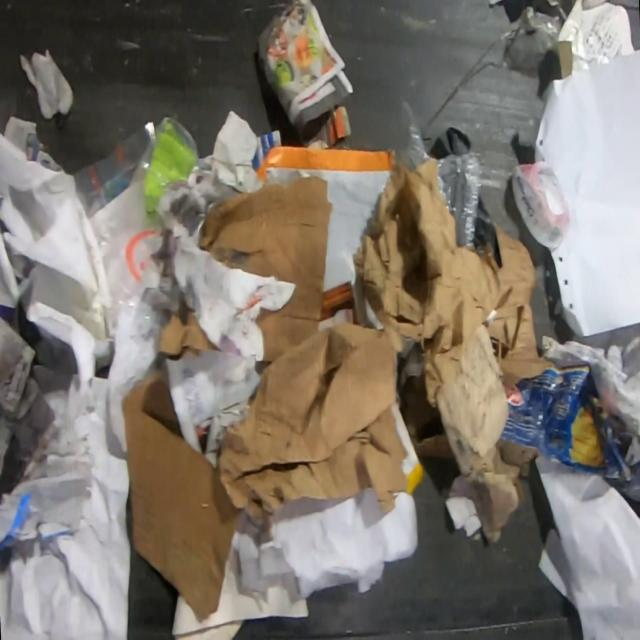cardboard: (216, 321, 406, 534), (122, 368, 245, 622), (197, 175, 334, 362), (500, 364, 633, 484), (487, 215, 550, 393), (152, 286, 232, 368)
rigid_plastic: (72, 115, 200, 297)
soft_plastic: (400, 98, 481, 249), (511, 158, 571, 248), (472, 193, 500, 266), (425, 123, 473, 159)
